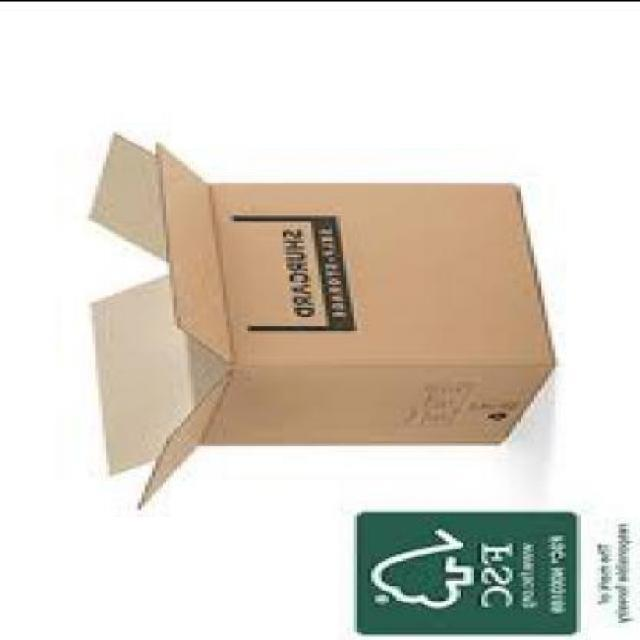box: (88, 129, 555, 505)
